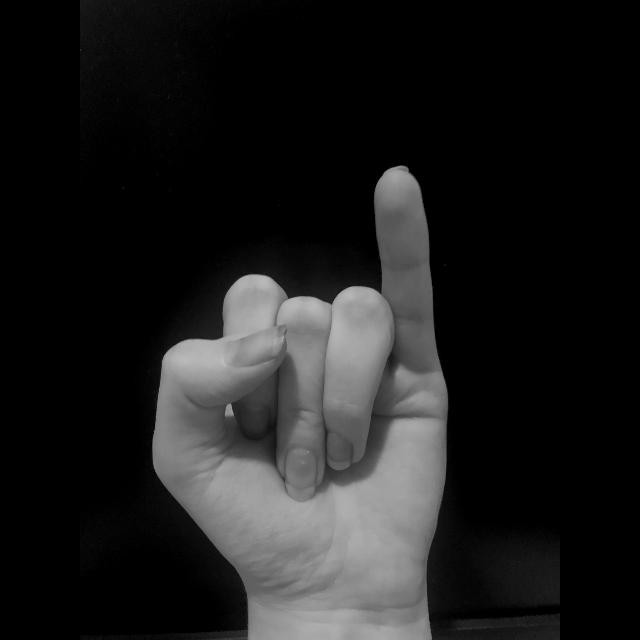I: (145, 160, 457, 610)
